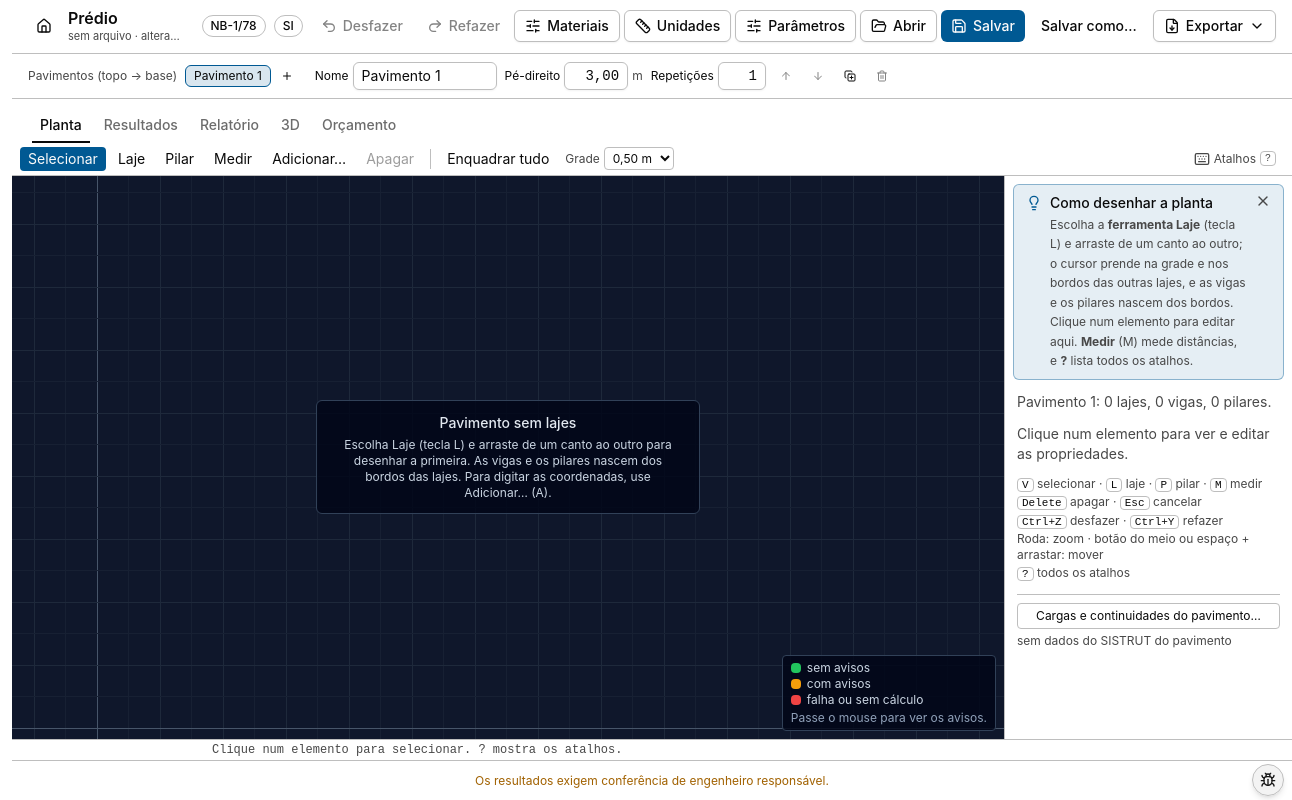
barra de pavimentos › cria pavimento acima do ativo e o seleciona
What coordinates should you click on to do the following:
click the button named "Novo pavimento"
I would click on:
 (287, 76)
Its box is top-left (275, 64), bottom-right (299, 88).
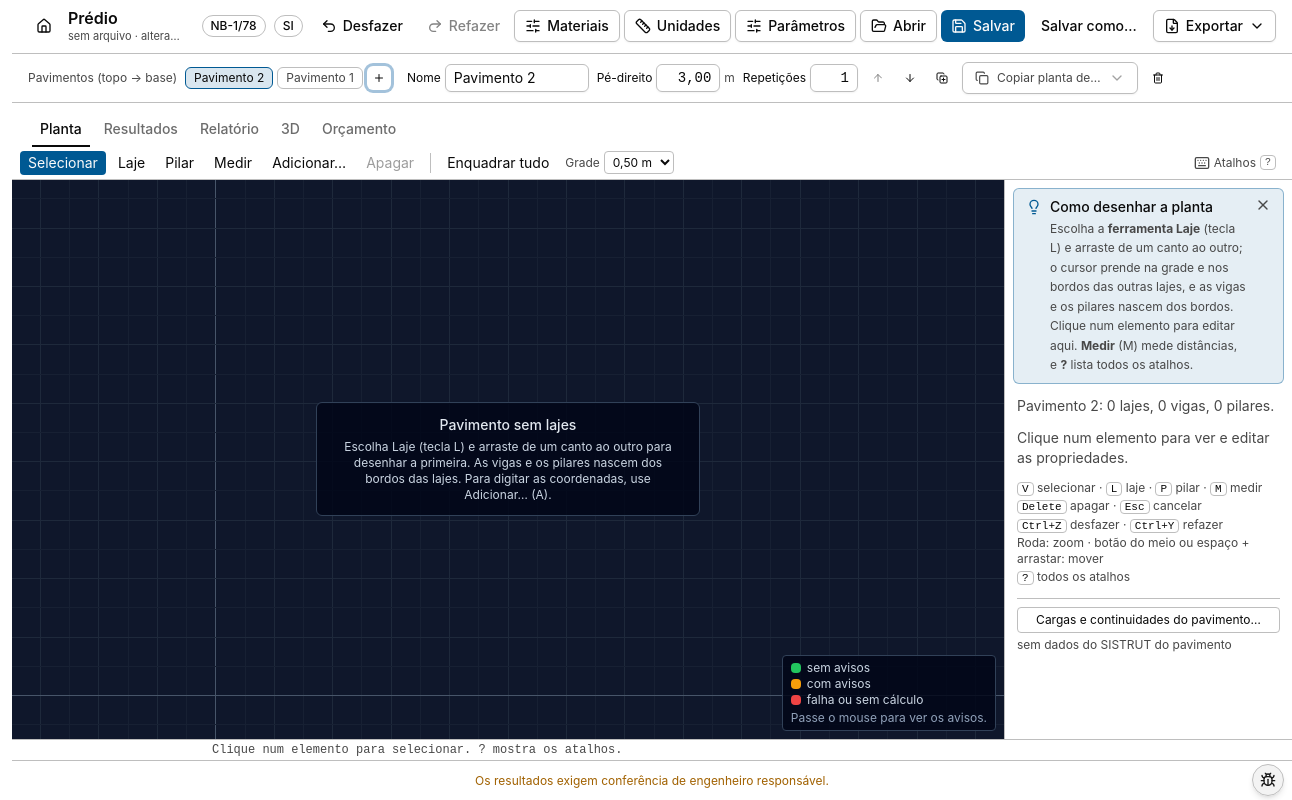
Expected: the button "Pavimento 2" is shown, top-left (185, 66), bottom-right (273, 88)
Expected: the text "Pavimento 2: 0 lajes, 0 vigas, 0 pilares." is shown, top-left (1017, 396), bottom-right (1280, 416)
